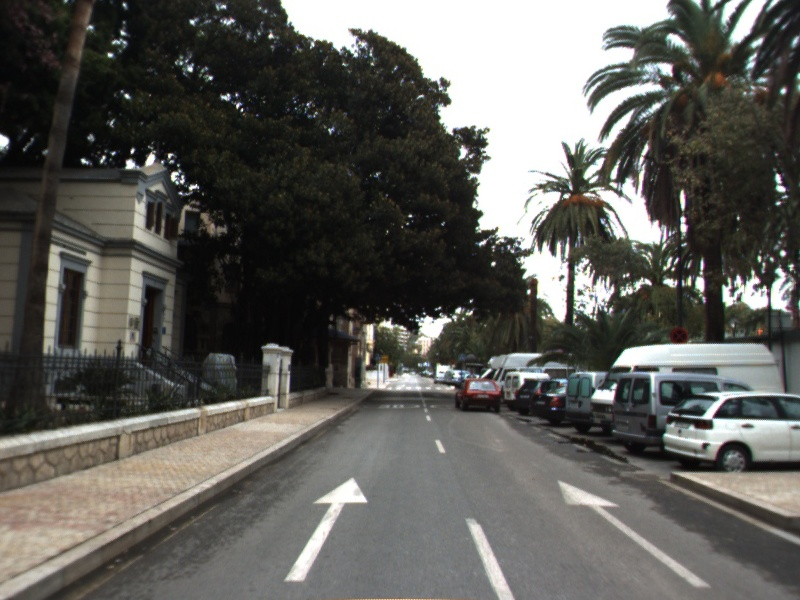STRAIGHT: (556, 478, 713, 589), (282, 475, 371, 584)
